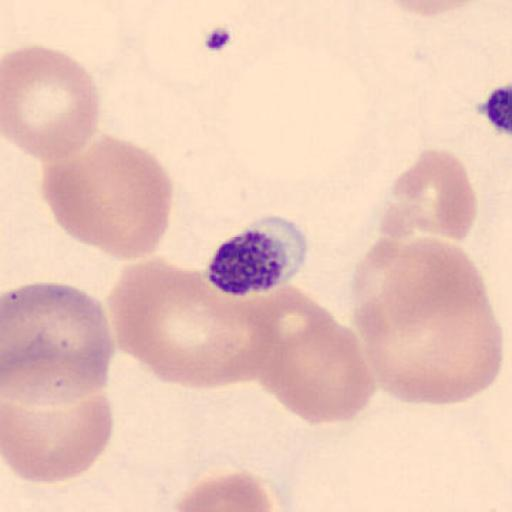Platelet: (204, 222, 309, 298)
RBC: (352, 236, 503, 406), (106, 257, 274, 392), (41, 134, 174, 260), (253, 297, 376, 425), (0, 280, 115, 408), (2, 44, 102, 162), (2, 387, 116, 485), (389, 146, 479, 242), (350, 236, 417, 325), (170, 471, 282, 512), (380, 0, 485, 20)
